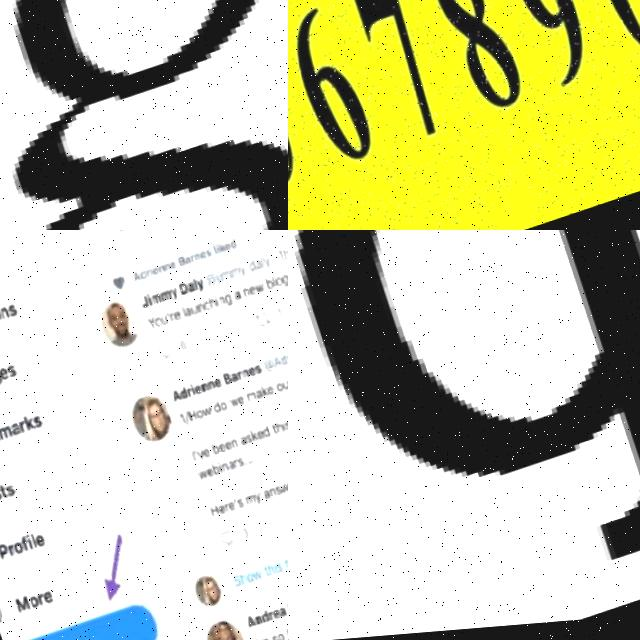0: (538, 0, 640, 102)
1: (271, 253, 280, 268), (170, 415, 179, 429), (271, 312, 276, 322)
3: (231, 530, 241, 544)
6: (288, 0, 389, 204), (173, 342, 181, 354)
7: (317, 0, 466, 180)
8: (396, 0, 532, 137)
9: (465, 0, 603, 116)
G: (0, 0, 288, 230)
Q: (288, 230, 640, 640)
